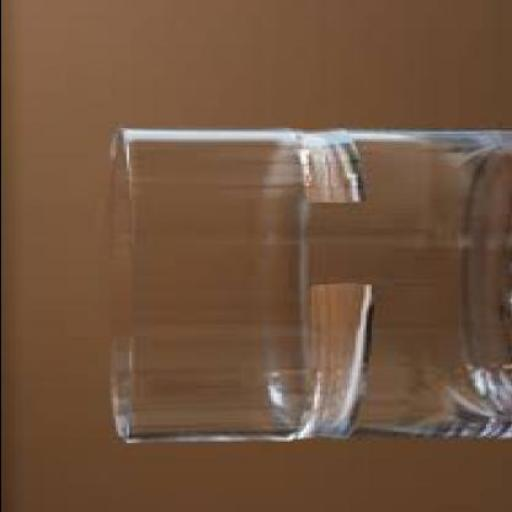glass: (106, 124, 509, 441)
